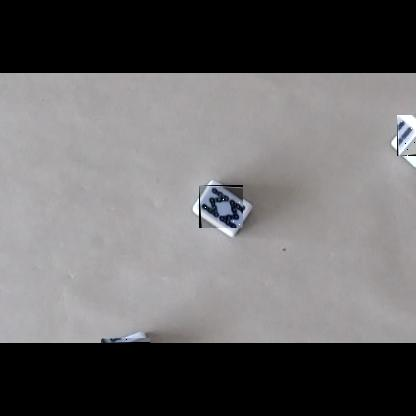6s: (101, 338, 150, 343)
7s: (397, 115, 416, 156)
8s: (199, 185, 243, 228)
